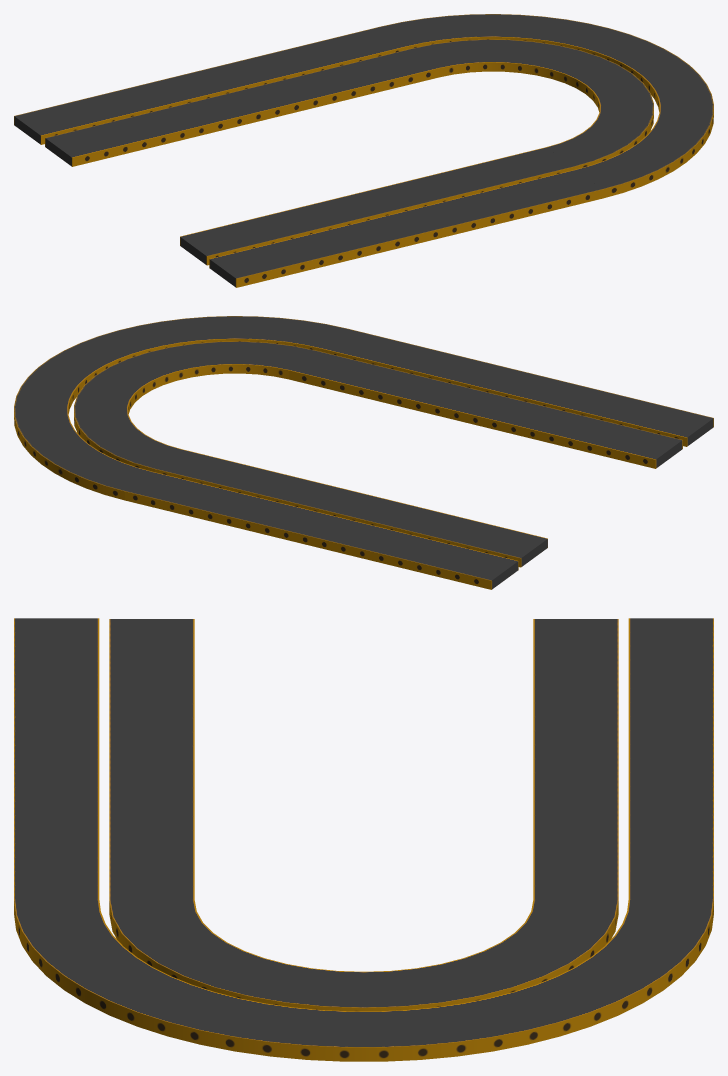
The model's file is tapisRoulantSepare_v1.fbx.
3 renders of one model, top to bottom at view 1: azimuth 30°, elevation 25°; view 2: azimuth 150°, elevation 25°; view 3: azimuth 270°, elevation 25°, orthographic. The views are drawn at different scales.
Visible parts, largest first — view 1: polySurface29, polySurface25, polySurface19, polySurface23, polySurface21, polySurface27, polySurface22, polySurface20, polySurface28, polySurface26, polySurface24, polySurface18; view 2: polySurface29, polySurface23, polySurface25, polySurface21, polySurface19, polySurface27, polySurface24, polySurface18, polySurface28, polySurface26, polySurface20, polySurface22; view 3: polySurface29, polySurface27, polySurface23, polySurface25, polySurface19, polySurface21, polySurface28, polySurface26.
Part boxes in pixels (x1,y1,x2,y2): polySurface29: (381, 14, 713, 189); polySurface25: (14, 26, 407, 135); polySurface19: (180, 147, 572, 256); polySurface23: (45, 48, 438, 157); polySurface21: (210, 169, 602, 278); polySurface27: (412, 39, 653, 166); polySurface22: (45, 68, 438, 166); polySurface20: (209, 189, 602, 287); polySurface28: (407, 37, 713, 198); polySurface26: (438, 62, 653, 169); polySurface24: (14, 46, 407, 144); polySurface18: (180, 167, 573, 265); polySurface29: (14, 316, 346, 491); polySurface23: (155, 449, 547, 558); polySurface25: (125, 471, 517, 580); polySurface21: (320, 328, 713, 437); polySurface19: (289, 350, 682, 459); polySurface27: (74, 341, 315, 468); polySurface24: (125, 491, 518, 589); polySurface18: (289, 370, 682, 468); polySurface28: (14, 339, 320, 500); polySurface26: (74, 364, 289, 471); polySurface20: (320, 348, 713, 446); polySurface22: (154, 469, 547, 567); polySurface29: (14, 899, 713, 1047); polySurface27: (109, 900, 618, 1007); polySurface23: (533, 619, 618, 900); polySurface25: (628, 618, 713, 899); polySurface19: (109, 619, 194, 900); polySurface21: (14, 618, 99, 899); polySurface28: (14, 901, 713, 1061); polySurface26: (109, 901, 618, 1011).
Bounding box in the file's own units: 30.5 × 0.4773 × 21.03.
